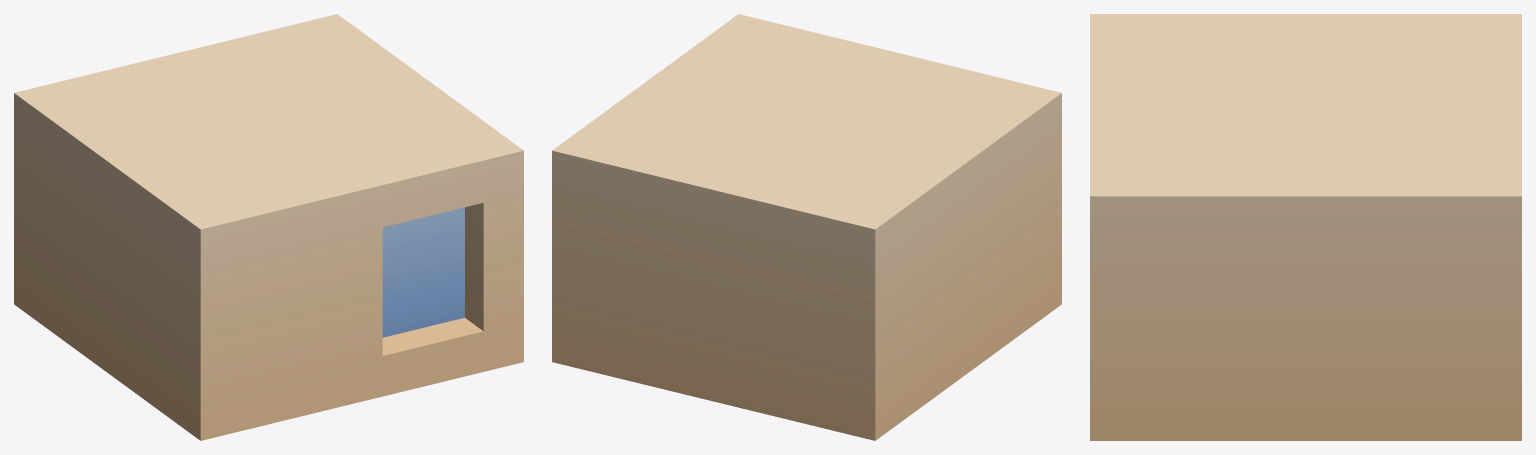
Rendered from kenney-modular-buildings-building-window-right.glb.
The picture shows the model from 3 angles, left to right: view 1: azimuth 30°, elevation 25°; view 2: azimuth 150°, elevation 25°; view 3: azimuth 270°, elevation 25°; orthographic projection. The views are drawn at different scales.
Parts seen in each view (by area): view 1: building-window-right; view 2: building-window-right; view 3: building-window-right.
Part boxes in pixels (<box>): building-window-right: <box>14,14,523,440</box>; building-window-right: <box>552,14,1061,440</box>; building-window-right: <box>1090,14,1521,440</box>.
Bounding box in the file's own units: 1 × 0.625 × 1.
1 material, 1 textured.
